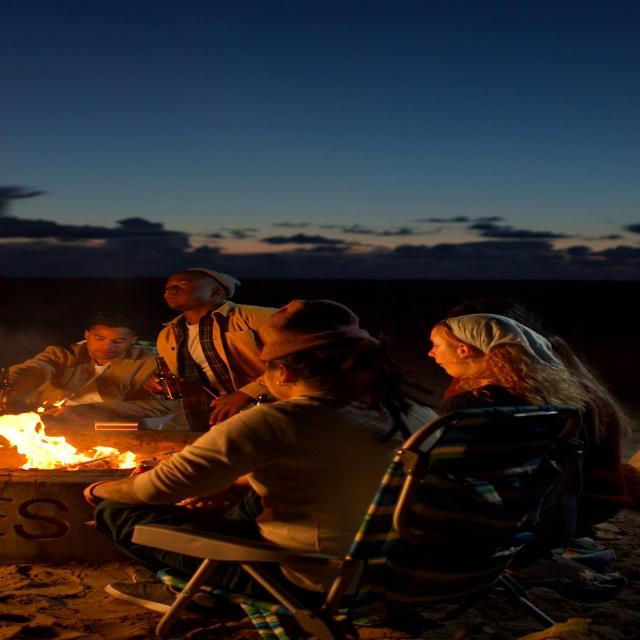Fire: (0, 410, 138, 462)
